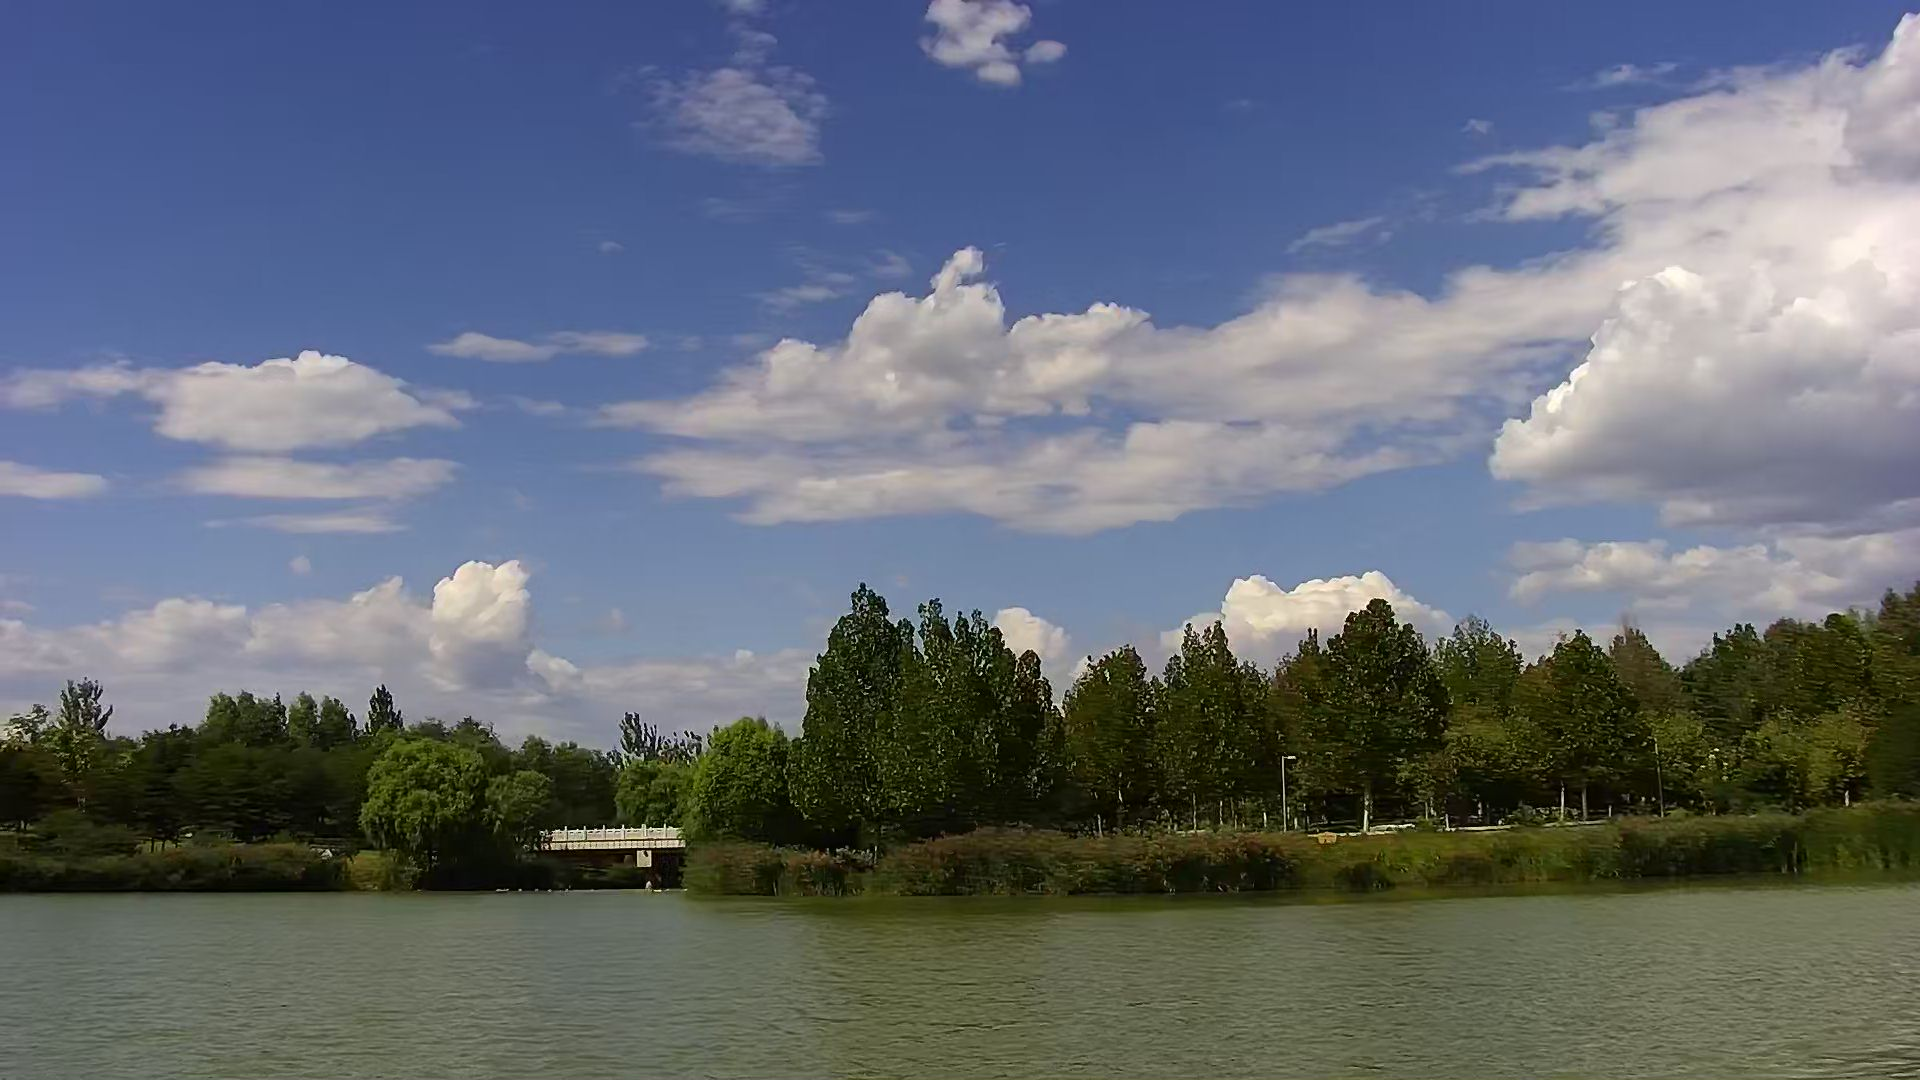bridge: (553, 822, 683, 889)
